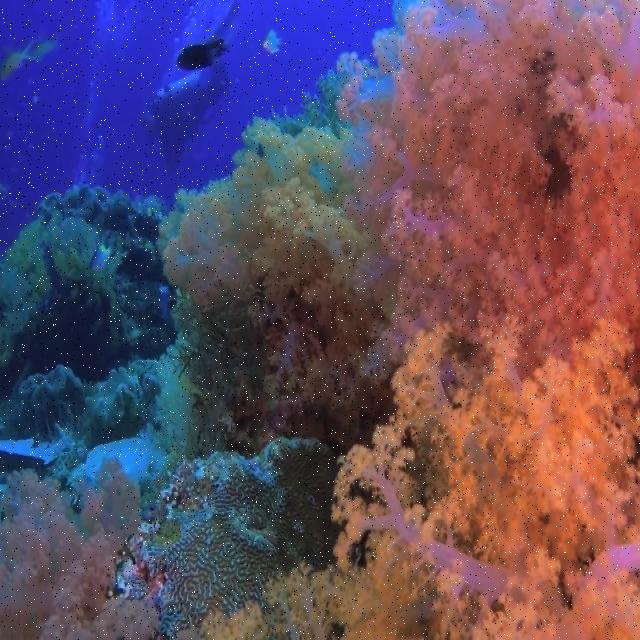aquatic plants: (0, 183, 176, 445), (170, 289, 269, 456)
fish: (174, 38, 230, 72)
reefs: (158, 0, 639, 639), (116, 437, 337, 639), (0, 455, 159, 638)
